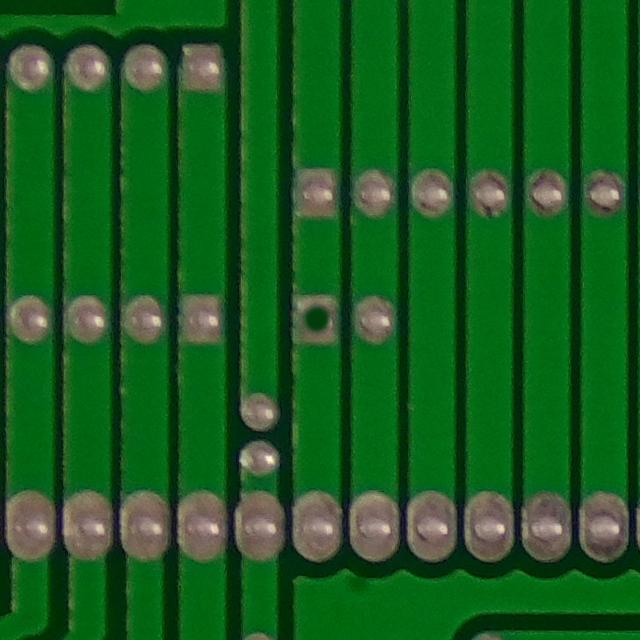missing_hole: (294, 294, 347, 347)
